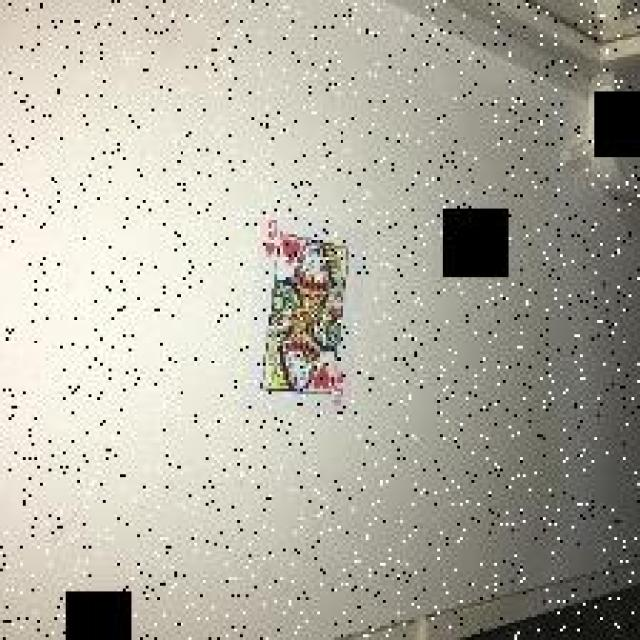Queen of hearts: (264, 219, 370, 394)
